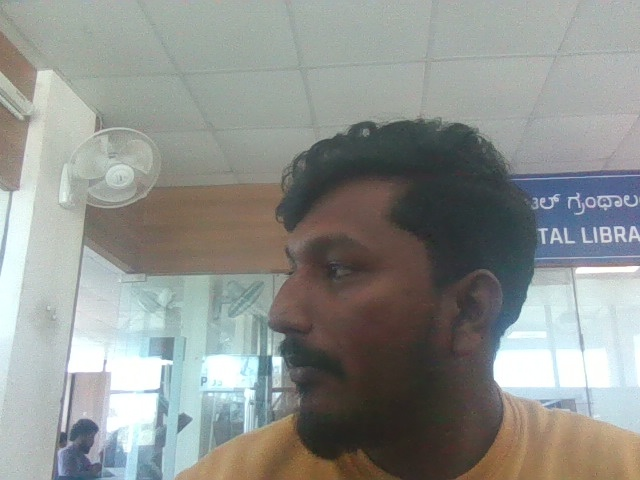real: (247, 99, 488, 440)
